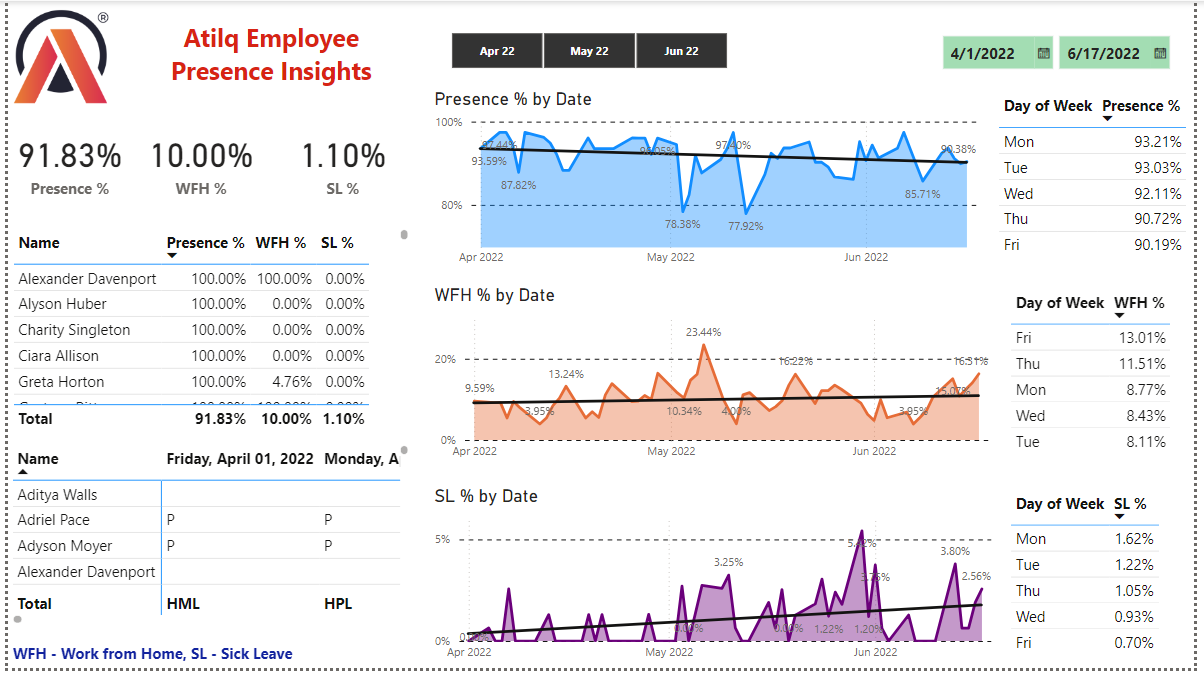

What the dashboard file says about the page in this screenshot:
{"tool":"powerbi","page":{"name":"HR Dashboard","canvas":[1280,720],"ordinal":0},"visuals":[{"type":"slicer","fields":{"Values":["Transformed_Data.Month"]},"box":[453.4,27.5,346.5,51.8],"z":0},{"type":"card","fields":{"Values":["Measure Table.Presence %"]},"box":[0,118.2,132.8,110.1],"z":0,"group":"g1"},{"type":"tableEx","fields":{"Values":["Transformed_Data.Name","Measure Table.Presence %","Measure Table.WFH %","Measure Table.SL %"]},"box":[0,241.3,437.2,226.7],"z":1000},{"type":"textbox","box":[131.2,16.2,306,89.1],"z":2000},{"type":"card","fields":{"Values":["Measure Table.WFH %"]},"box":[142.5,118.2,131.2,110.1],"z":2000,"group":"g1"},{"type":"card","fields":{"Values":["Measure Table.SL %"]},"box":[285,118.2,152.2,110.1],"z":3000,"group":"g1"},{"type":"pivotTable","fields":{"Rows":["Transformed_Data.Name"],"Values":["Min(Transformed_Data.Value)"],"Columns":["Transformed_Data.Date"]},"box":[0,474.4,437.2,202.4],"z":3000},{"type":"areaChart","fields":{"Y":["Measure Table.Presence %"],"Category":["Transformed_Data.Date"]},"box":[455,93.9,608.8,200.8],"z":4000},{"type":"areaChart","fields":{"Category":["Transformed_Data.Date"],"Y":["Measure Table.WFH %"]},"box":[455,306,621.8,197.5],"z":5000},{"type":"areaChart","fields":{"Category":["Transformed_Data.Date"],"Y":["Measure Table.SL %"]},"box":[455,523,625,197.5],"z":6000},{"type":"tableEx","fields":{"Values":["Transformed_Data.Day of Week","Measure Table.Presence %"]},"box":[1063.8,93.9,217,200.8],"z":7000},{"type":"tableEx","fields":{"Values":["Transformed_Data.Day of Week","Measure Table.WFH %"]},"box":[1076.8,306,204,197.5],"z":8000},{"type":"tableEx","fields":{"Values":["Transformed_Data.Day of Week","Measure Table.SL %"]},"box":[1076.8,523,204,197.5],"z":9000},{"type":"group","id":"g1","title":"Group 1","box":[0,118.2,437.2,110.1],"z":10000},{"type":"image","box":[0,0,116.6,118.2],"z":11000},{"type":"slicer","fields":{"Values":["Transformed_Data.Date"]},"box":[995.8,27.5,285,51.8],"z":12000},{"type":"textbox","box":[0,688.2,437.2,32.4],"z":13000}]}

Visuals, with their boxes in screenshot pixels (x1, y1, x2, y2), scaled from the page's 1280x720 canvas onto the 1204x676 screenshot:
slicer - Transformed_Data.Month: 426,26,752,74
card - Measure Table.Presence %: 0,111,125,214
tableEx - Transformed_Data.Name x Measure Table.Presence %: 0,227,411,439
textbox: 123,15,411,99
card - Measure Table.WFH %: 134,111,257,214
card - Measure Table.SL %: 268,111,411,214
pivotTable - Transformed_Data.Name x Min(Transformed_Data.Value): 0,445,411,635
areaChart - Measure Table.Presence % x Transformed_Data.Date: 428,88,1001,277
areaChart - Transformed_Data.Date x Measure Table.WFH %: 428,287,1013,473
areaChart - Transformed_Data.Date x Measure Table.SL %: 428,491,1016,675
tableEx - Transformed_Data.Day of Week x Measure Table.Presence %: 1001,88,1203,277
tableEx - Transformed_Data.Day of Week x Measure Table.WFH %: 1013,287,1203,473
tableEx - Transformed_Data.Day of Week x Measure Table.SL %: 1013,491,1203,675
"Group 1" group: 0,111,411,214
image: 0,0,110,111
slicer - Transformed_Data.Date: 937,26,1203,74
textbox: 0,646,411,675
